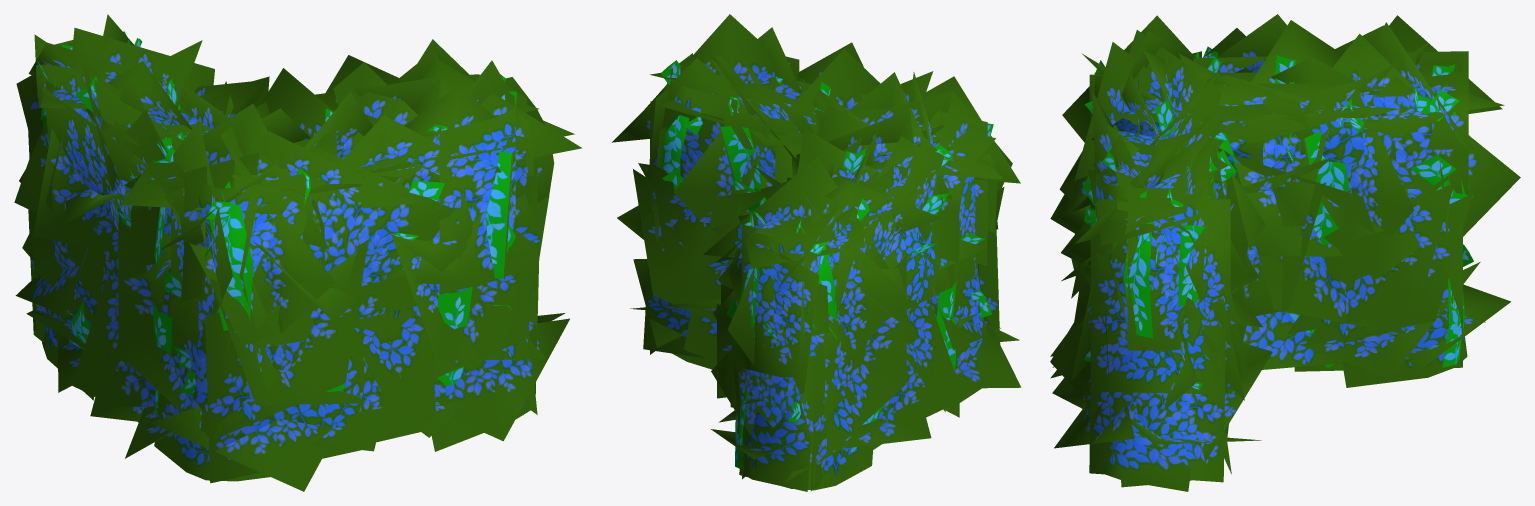
Rendered from Homeworld_Exterior_Common_Flower_Decoration_Greenwall_02_A_Lod0.fbx.
The picture shows the model from 3 angles, left to right: view 1: azimuth 30°, elevation 25°; view 2: azimuth 150°, elevation 25°; view 3: azimuth 270°, elevation 25°; orthographic projection. The views are drawn at different scales.
Parts seen in each view (by area): view 1: Homeworld_Exterior_Common_Flower_Decoration_Greenwall_02_A_L; view 2: Homeworld_Exterior_Common_Flower_Decoration_Greenwall_02_A_L; view 3: Homeworld_Exterior_Common_Flower_Decoration_Greenwall_02_A_L.
Boxes of the visible parts, x1,y1,x2,y2 form: Homeworld_Exterior_Common_Flower_Decoration_Greenwall_02_A_L: [14, 14, 581, 491]; Homeworld_Exterior_Common_Flower_Decoration_Greenwall_02_A_L: [612, 14, 1021, 491]; Homeworld_Exterior_Common_Flower_Decoration_Greenwall_02_A_L: [1050, 14, 1520, 491].
Size of the model in its own units: 3.34 by 2.65 by 3.3.
Materials: 1 (1 with a texture image).
